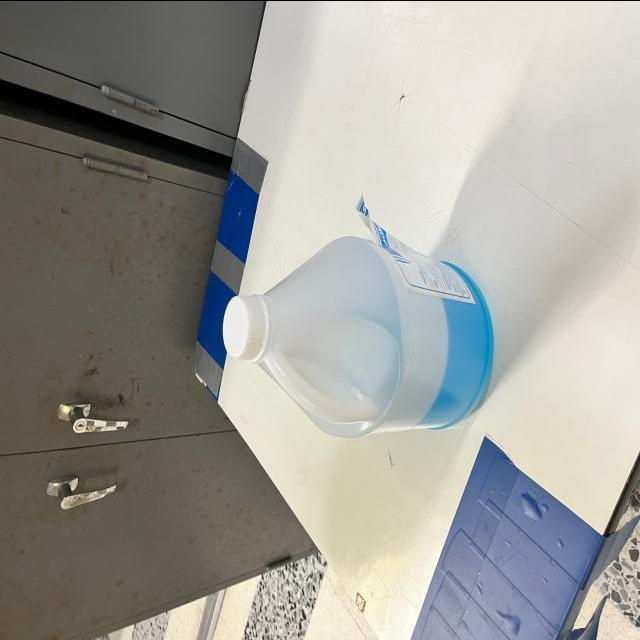HDPE Plastic: (211, 240, 493, 440)
